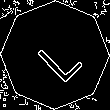L_NW: (26, 26, 84, 84)
